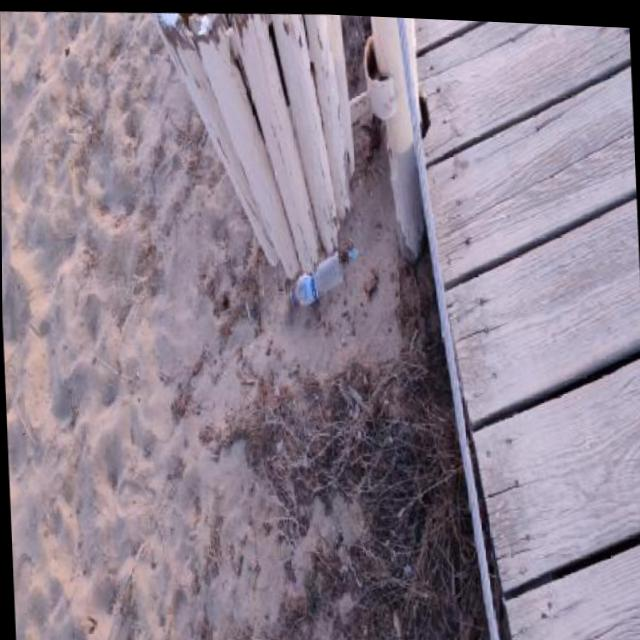plastic: (287, 247, 345, 309)
